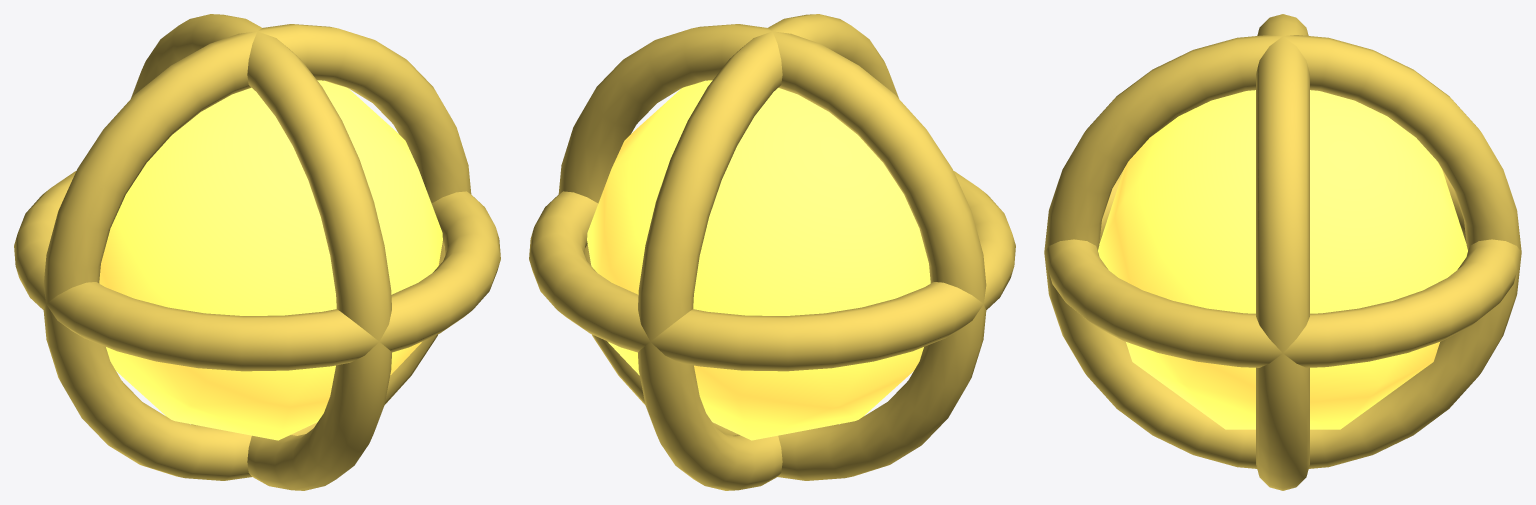
The model's file is bomb_solar.glb.
3 renders of one model, left to right at view 1: azimuth 30°, elevation 25°; view 2: azimuth 150°, elevation 25°; view 3: azimuth 270°, elevation 25°, orthographic. The views are drawn at different scales.
Parts seen in each view (by area): view 1: core, ring2, ring3, ring1; view 2: core, ring2, ring3, ring1; view 3: core, ring3, ring1, ring2.
Part boxes in pixels (x1,y1,x2,y2): core: (99,80,442,440); ring2: (43,24,471,480); ring3: (131,14,391,490); ring1: (14,171,500,371); core: (587,80,930,440); ring2: (558,24,986,480); ring3: (638,14,898,490); ring1: (529,171,1015,371); core: (1098,90,1467,429); ring3: (1044,35,1521,468); ring1: (1044,170,1521,367); ring2: (1256,14,1309,490).
Bounding box in the file's own units: 0.564 × 0.564 × 0.564.
